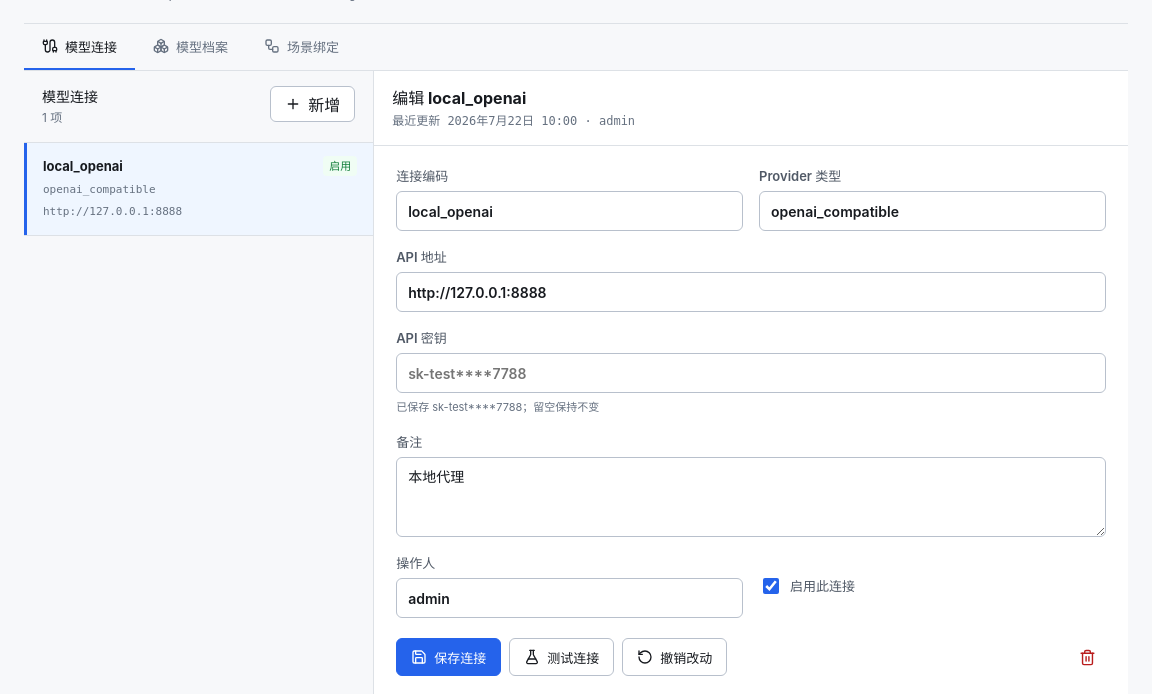
model settings page › shows only the masked stored secret and tests without persisting
(page scrolled)
Expected: the password field labelled "API 密钥" is empty, [396,353,1106,393]
Click the button "测试连接": (562, 657) [509,638,614,676]
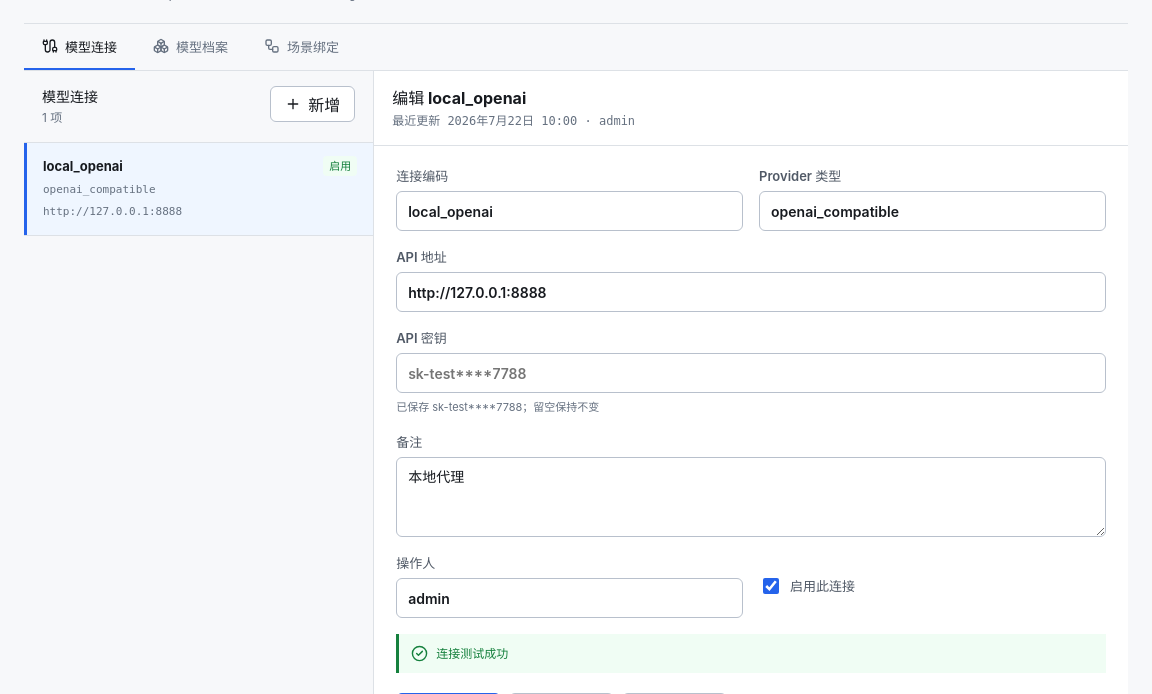
Expected: the text "连接测试成功" is shown, [396,634,1106,673]
